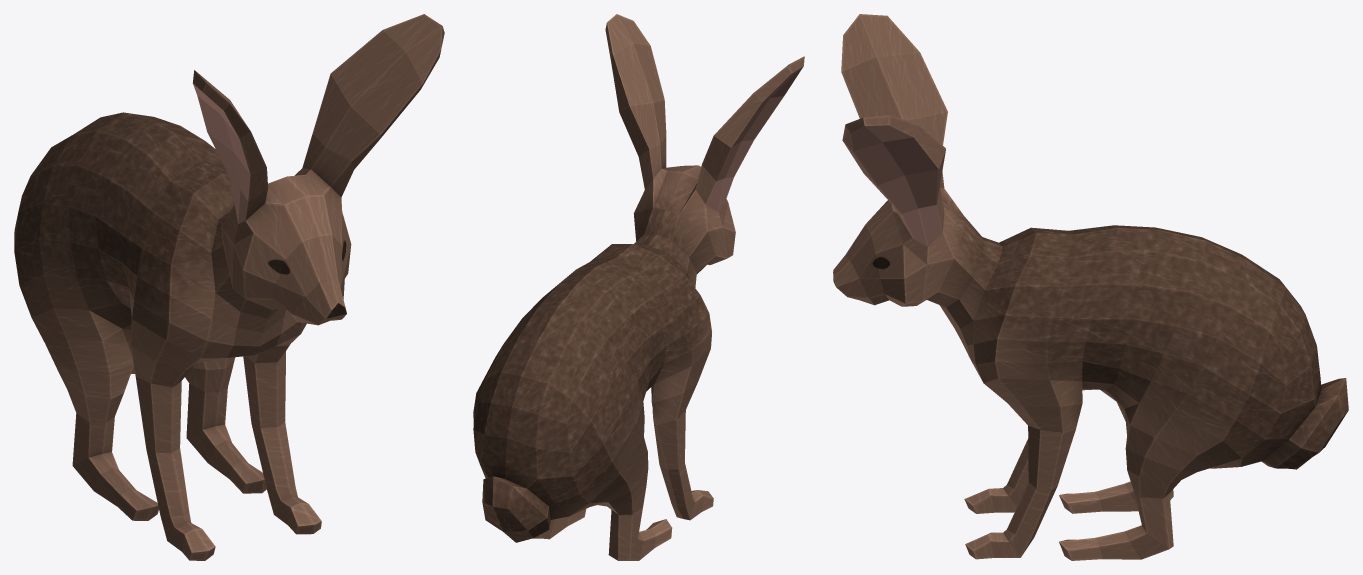
Rendered from rabbit.glb.
3 views of the same model, side by side, from view 1: azimuth 30°, elevation 25°; view 2: azimuth 150°, elevation 25°; view 3: azimuth 270°, elevation 25° (orthographic). The views are drawn at different scales.
Visible parts, largest first — view 1: node-0; view 2: node-0; view 3: node-0.
Part boxes in pixels (box(x1,y1,x2,y2)): node-0: box(14, 14, 444, 560); node-0: box(473, 14, 804, 560); node-0: box(833, 14, 1348, 560).
Size of the model in its own units: 3.29 by 7 by 6.98.
1 material, 1 textured.
